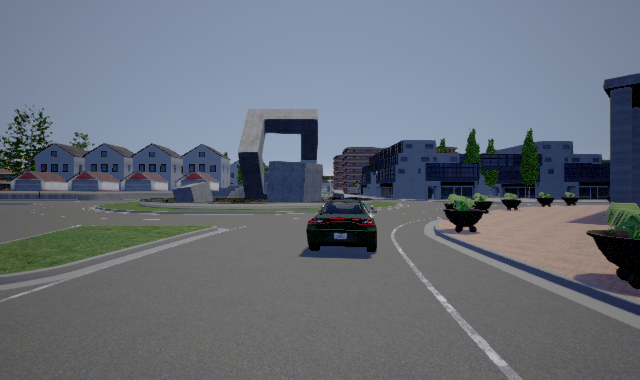vehicle: (306, 197, 377, 252)
